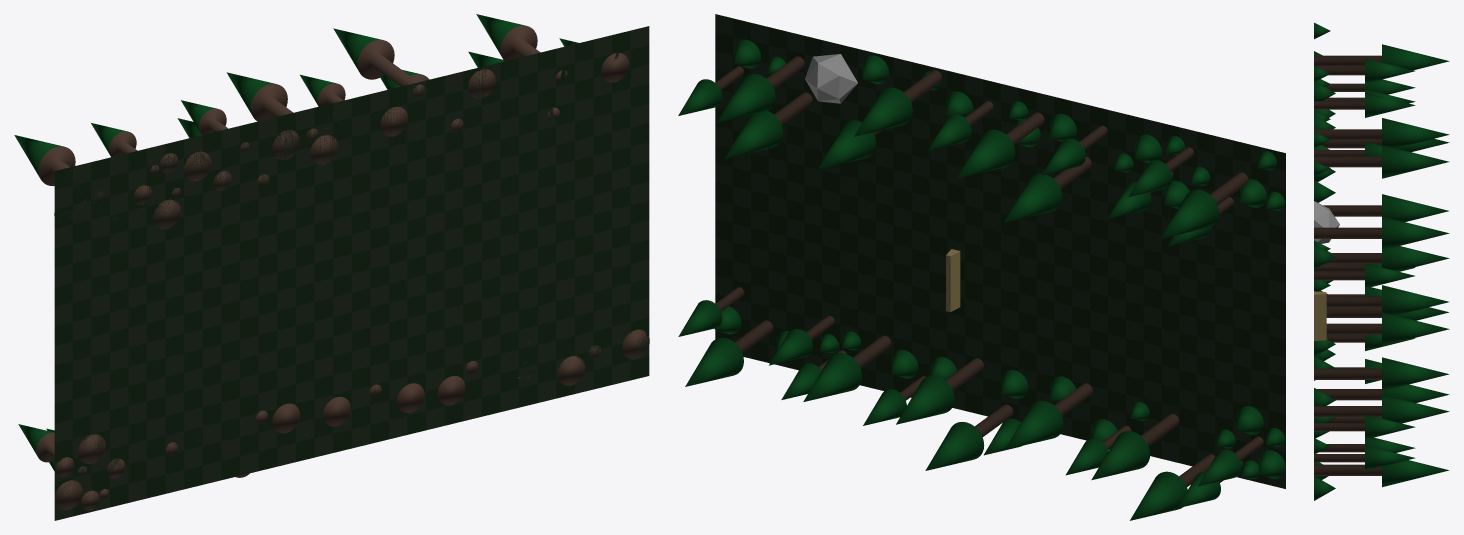
The model's file is forest14.dae.
3 renders of one model, left to right at view 1: azimuth 30°, elevation 25°; view 2: azimuth 150°, elevation 25°; view 3: azimuth 270°, elevation 25°, orthographic. The views are drawn at different scales.
Visible parts, largest first — view 1: Plane.032, Cone.2136, Cone.2144, Cone.2135, Cone.2157, Cone.2164, Cone.2167, Cone.2153, Cone.2138; view 2: Plane.032, Cone.2143, Cone.2146, Cone.2135, Cone.2136, Cone.2144, Cone.2117, Cone.2129, Cone.2125, Cone.2175, Cone.2157, Cone.2166 (+17 smaller); view 3: Cone.2135, Cone.2143, Cone.2136, Cone.2129, Cone.2146, Cone.2144, Cone.2117, Cone.2125, Cone.2170, Cone.2157, Cone.2166, Cone.2175 (+25 smaller).
Part boxes in pixels (x1,y1,x2,y2): Plane.032: [54, 26, 649, 520]; Cone.2136: [333, 28, 424, 97]; Cone.2144: [226, 72, 317, 141]; Cone.2135: [476, 14, 567, 83]; Cone.2157: [14, 135, 105, 202]; Cone.2164: [181, 100, 249, 151]; Cone.2167: [91, 123, 159, 174]; Cone.2153: [18, 424, 86, 475]; Cone.2138: [300, 74, 345, 106]; Plane.032: [715, 14, 1285, 488]; Cone.2143: [896, 358, 983, 424]; Cone.2146: [1005, 383, 1092, 449]; Cone.2135: [717, 56, 804, 122]; Cone.2136: [854, 70, 941, 136]; Cone.2144: [956, 112, 1044, 178]; Cone.2117: [1091, 413, 1179, 480]; Cone.2129: [803, 335, 891, 401]; Cone.2125: [685, 320, 773, 386]; Cone.2175: [925, 404, 1013, 470]; Cone.2157: [1160, 172, 1248, 238]; Cone.2166: [724, 92, 812, 158]; Cone.2135: [1314, 216, 1449, 250]; Cone.2143: [1314, 357, 1448, 390]; Cone.2136: [1314, 145, 1449, 178]; Cone.2129: [1314, 394, 1449, 423]; Cone.2146: [1326, 312, 1449, 345]; Cone.2144: [1314, 118, 1449, 148]; Cone.2117: [1326, 285, 1448, 315]; Cone.2125: [1314, 460, 1448, 487]; Cone.2170: [1323, 194, 1448, 221]; Cone.2157: [1314, 44, 1449, 70]; Cone.2166: [1325, 246, 1449, 271]; Cone.2175: [1317, 384, 1449, 402].
Bounding box in the file's own units: 64.07 × 16 × 37.96.
